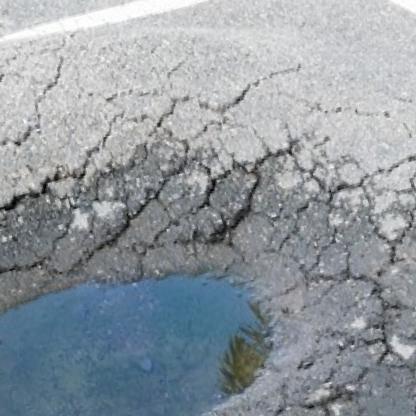pothole: (0, 132, 334, 416)
